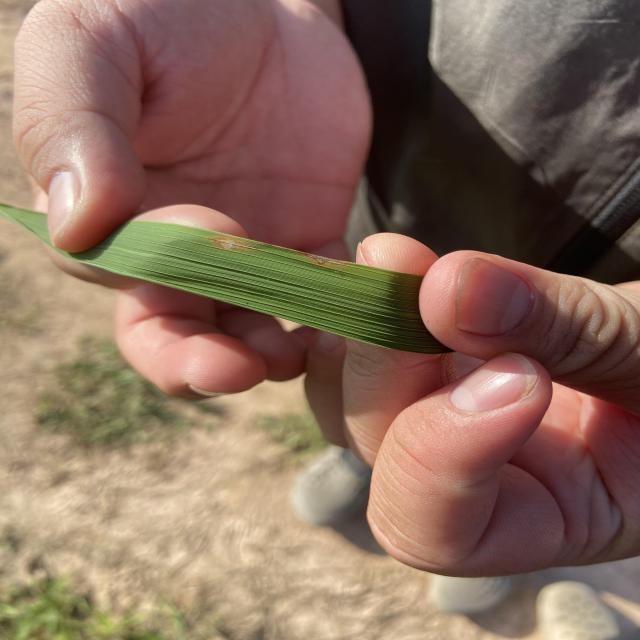Dao on: (211, 238, 252, 250), (303, 252, 341, 264)
